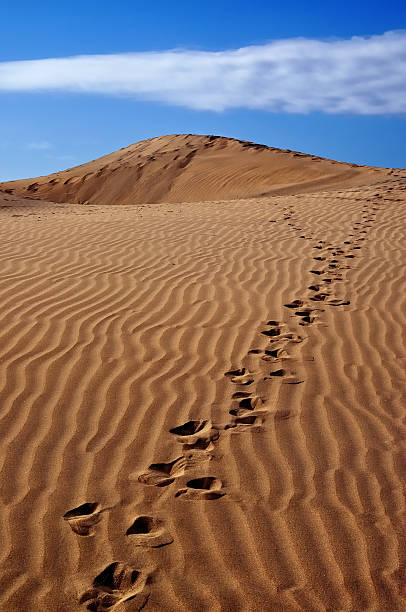animal_foot_print: (80, 561, 148, 611), (126, 515, 172, 547), (138, 456, 187, 486), (63, 502, 102, 535), (169, 419, 218, 444), (175, 476, 224, 499), (225, 410, 268, 432), (182, 438, 214, 465), (229, 394, 262, 415), (264, 368, 303, 383), (261, 342, 291, 361), (268, 332, 304, 347), (225, 367, 253, 384), (261, 326, 281, 336), (284, 299, 305, 308), (325, 298, 349, 305), (310, 269, 324, 274)
